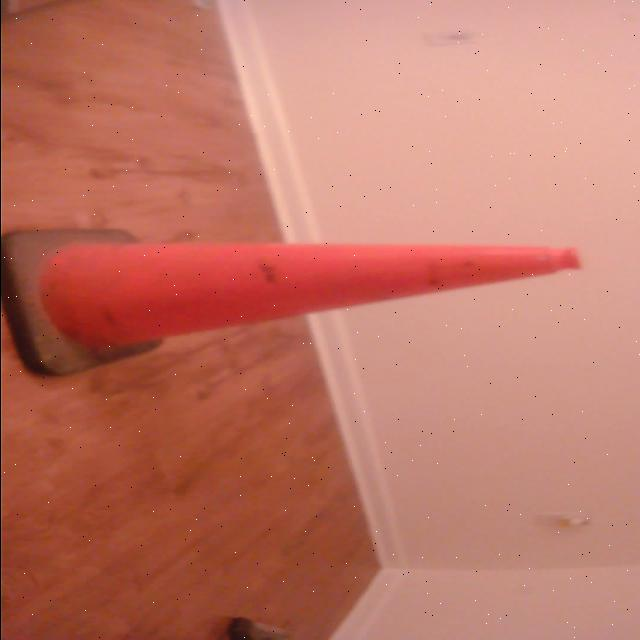traffic cone: (1, 222, 591, 385)
